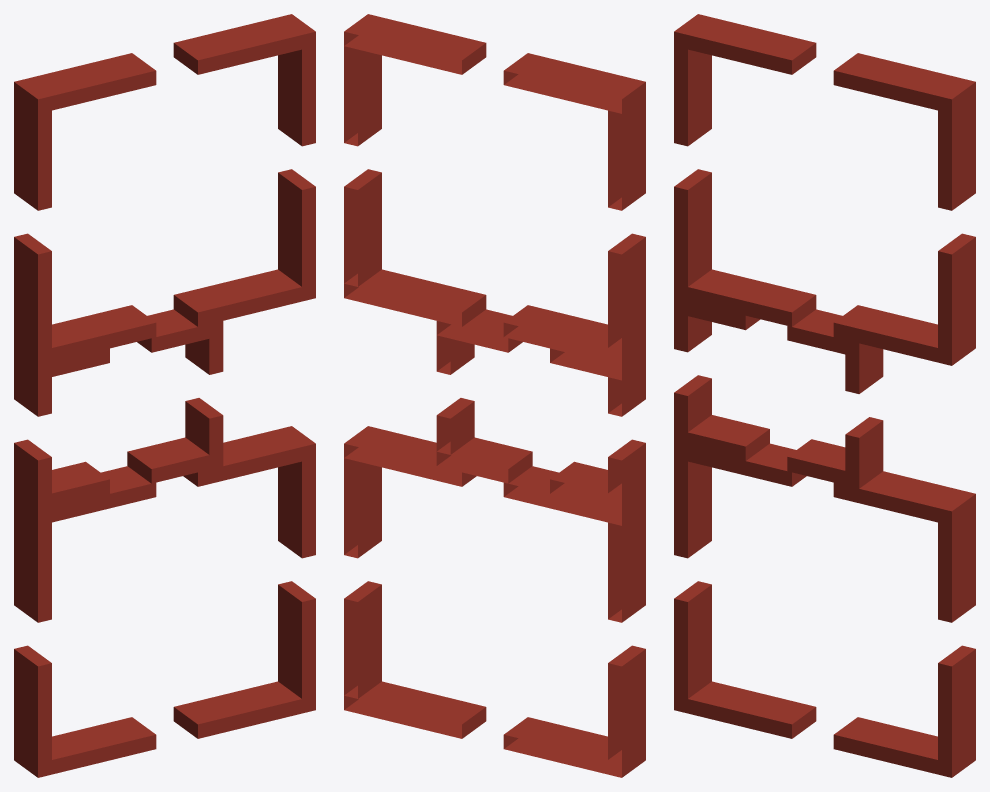
The model's file is construction_0.glb.
3 renders of one model, left to right at view 1: azimuth 30°, elevation 25°; view 2: azimuth 150°, elevation 25°; view 3: azimuth 330°, elevation 25°, orthographic.
Parts seen in each view (by area): view 1: construction_0; view 2: construction_0; view 3: construction_0.
Boxes of the visible parts, x1=… form: construction_0: x1=14, y1=14, x2=315, y2=777; construction_0: x1=344, y1=14, x2=645, y2=777; construction_0: x1=674, y1=14, x2=975, y2=777.
Bounding box in the file's own units: 12 × 28 × 1.8.
